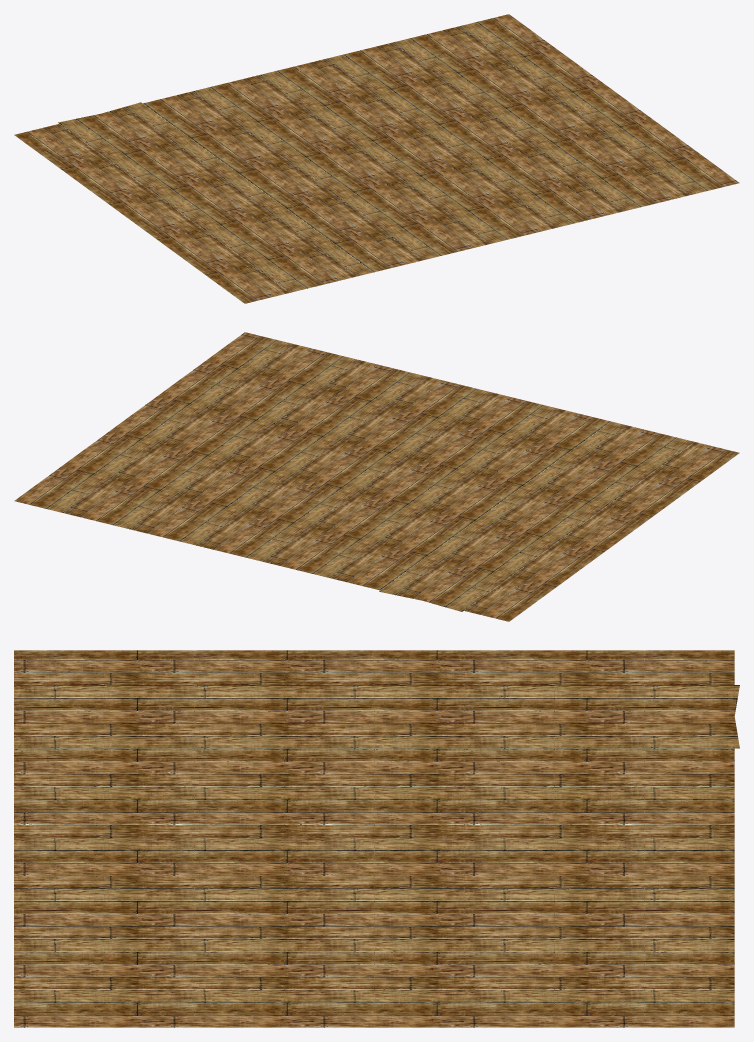
Rendered from LAKETOWN_WAREHOUSE1_PS_WH1_MAINFLOOR93938.fbx.
3 views of the same model, one above another, from view 1: azimuth 30°, elevation 25°; view 2: azimuth 150°, elevation 25°; view 3: azimuth 270°, elevation 25° (orthographic). The views are drawn at different scales.
Visible parts, largest first — view 1: LAKETOWN_WAREHOUSE1_PS_WH1_MAINFLOOR93938; view 2: LAKETOWN_WAREHOUSE1_PS_WH1_MAINFLOOR93938; view 3: LAKETOWN_WAREHOUSE1_PS_WH1_MAINFLOOR93938.
Part boxes in pixels (x1,y1,x2,y2): LAKETOWN_WAREHOUSE1_PS_WH1_MAINFLOOR93938: (14, 14, 739, 303); LAKETOWN_WAREHOUSE1_PS_WH1_MAINFLOOR93938: (14, 332, 739, 621); LAKETOWN_WAREHOUSE1_PS_WH1_MAINFLOOR93938: (14, 650, 739, 1027).
Bounding box in the file's own units: 195147 × 0.0747 × 158746.
1 material, 1 textured.
